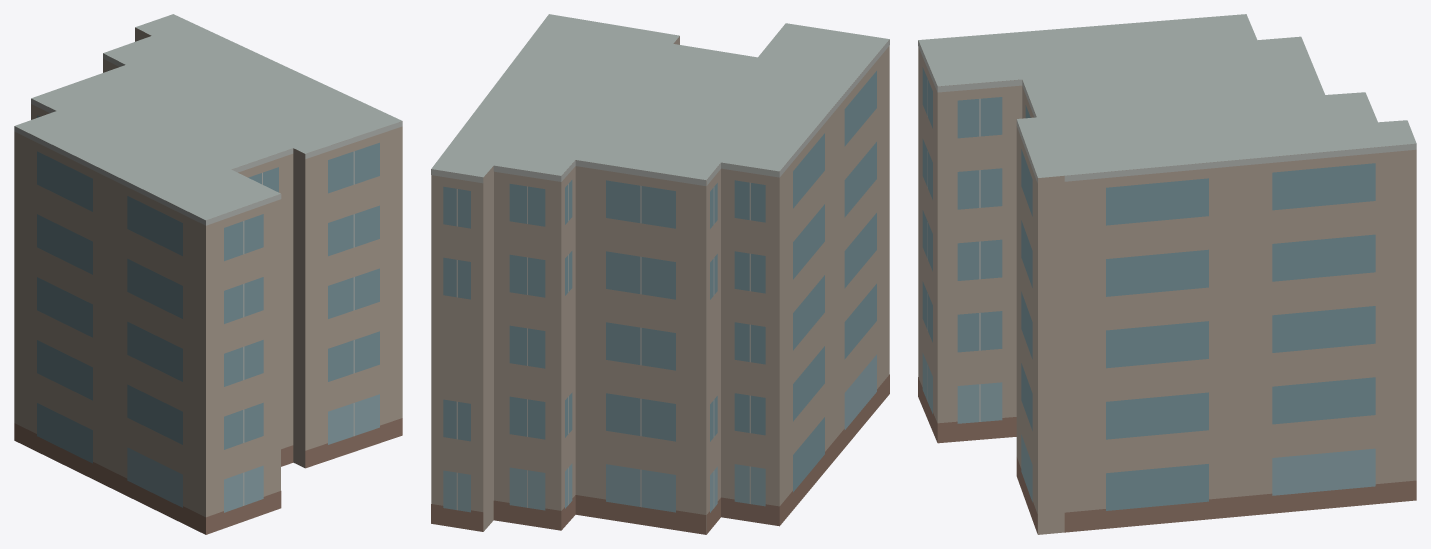
Rendered from survey-upis-32773398.glb.
The picture shows the model from 3 angles, left to right: view 1: azimuth 30°, elevation 25°; view 2: azimuth 150°, elevation 25°; view 3: azimuth 270°, elevation 25°; orthographic projection. The views are drawn at different scales.
Parts seen in each view (by area): view 1: survey-upis-32773398.tmp; view 2: survey-upis-32773398.tmp; view 3: survey-upis-32773398.tmp.
Part boxes in pixels (x1,y1,x2,y2): survey-upis-32773398.tmp: (14,14,402,534); survey-upis-32773398.tmp: (431,14,889,534); survey-upis-32773398.tmp: (918,14,1416,534).
Bounding box in the file's own units: 14.01 × 14.2 × 17.99.
